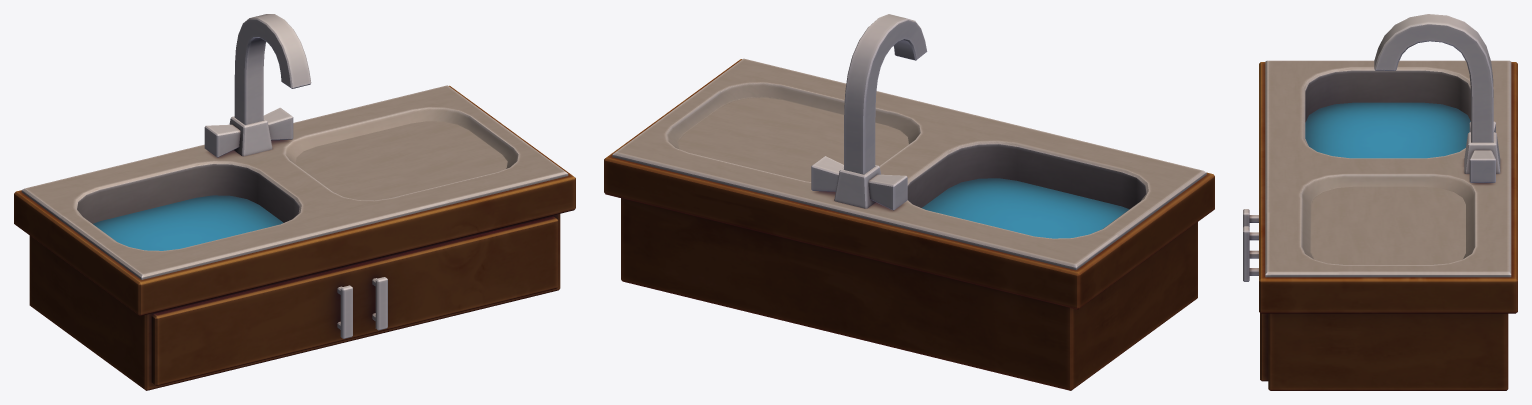
The model's file is Sink.fbx.
3 renders of one model, left to right at view 1: azimuth 30°, elevation 25°; view 2: azimuth 150°, elevation 25°; view 3: azimuth 270°, elevation 25°, orthographic. The views are drawn at different scales.
Visible parts, largest first — view 1: Sink.001; view 2: Sink.001; view 3: Sink.001.
Part boxes in pixels (x1,y1,x2,y2): Sink.001: (14,14,575,390); Sink.001: (604,14,1214,390); Sink.001: (1243,14,1517,390).
Bounding box in the file's own units: 400 × 230 × 212.
